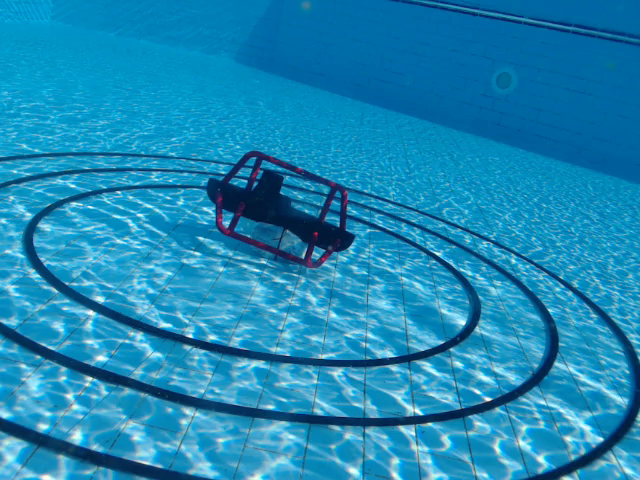submarine: (206, 149, 357, 271)
